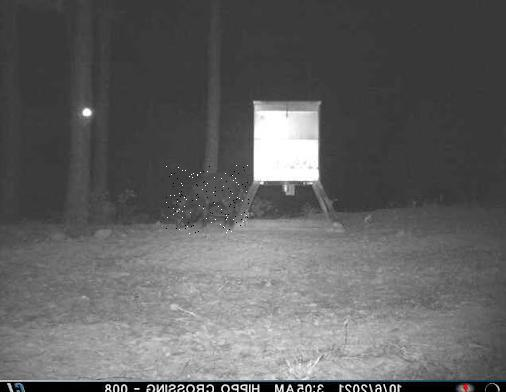Hog: (166, 165, 249, 234)
